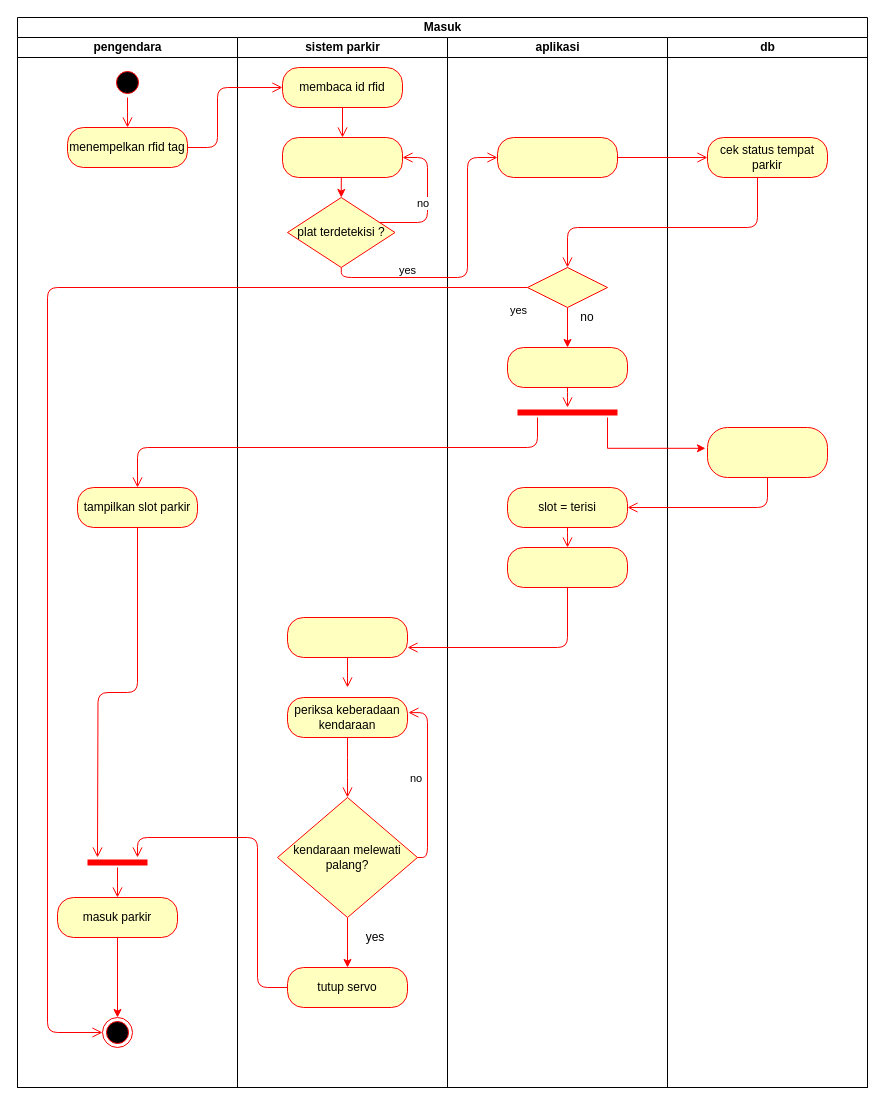
Some shapes in this 885 by 1105 pixel diagram are drawn without their labels. The shapes that lost their labels are listed below. From the top down, each one's centre as x and y in pixels, then its label:
the point at 342,157: mengambil foto pelat
the point at 557,157: cek ketersediaan slot parkir
the point at 567,287: penuh ?
the point at 567,367: Menentukan kode slot parkir
the point at 767,452: simpan data id RFID, pelat nomor, dan kode parkir
the point at 567,567: tampilkan data
the point at 347,637: membuka palang/servo
